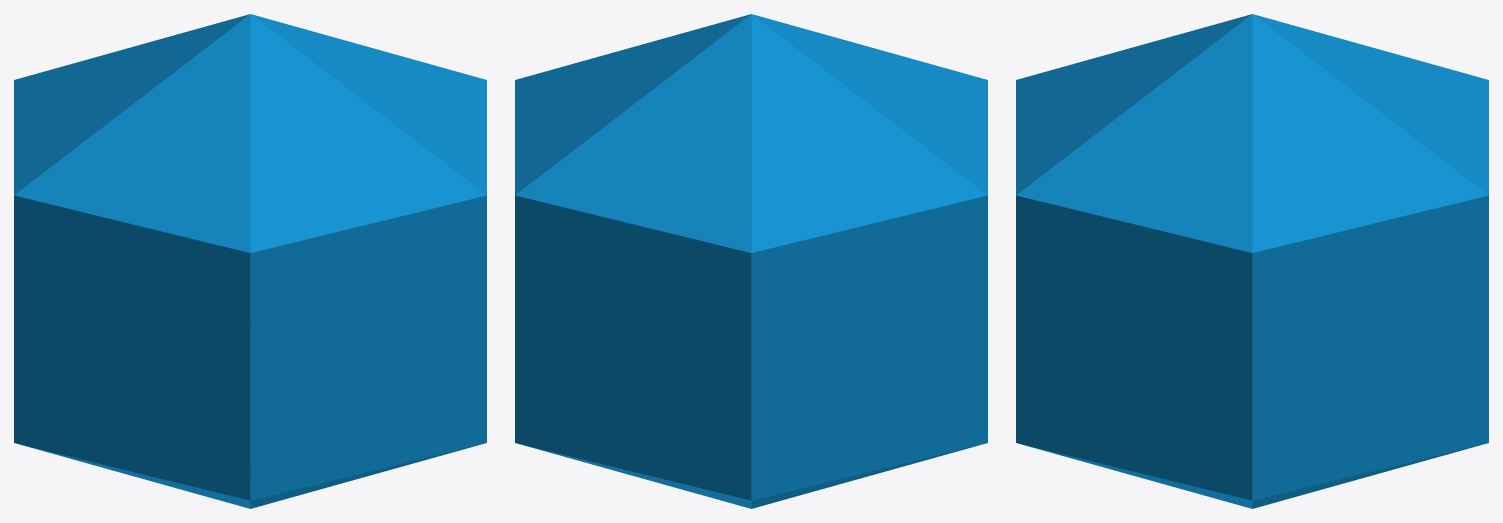
File: Checkpoint.fbx
3 views of the same model, side by side, from view 1: azimuth 30°, elevation 25°; view 2: azimuth 150°, elevation 25°; view 3: azimuth 270°, elevation 25° (orthographic).
Visible parts, largest first — view 1: sphere; view 2: sphere; view 3: sphere.
Boxes of the visible parts, left/top/right/bottom form: sphere: left=14, top=14, right=486, bottom=508; sphere: left=515, top=14, right=987, bottom=508; sphere: left=1016, top=14, right=1488, bottom=508.
Size of the model in its own units: 100 by 100 by 86.6.
Materials: 1 (1 with a texture image).
